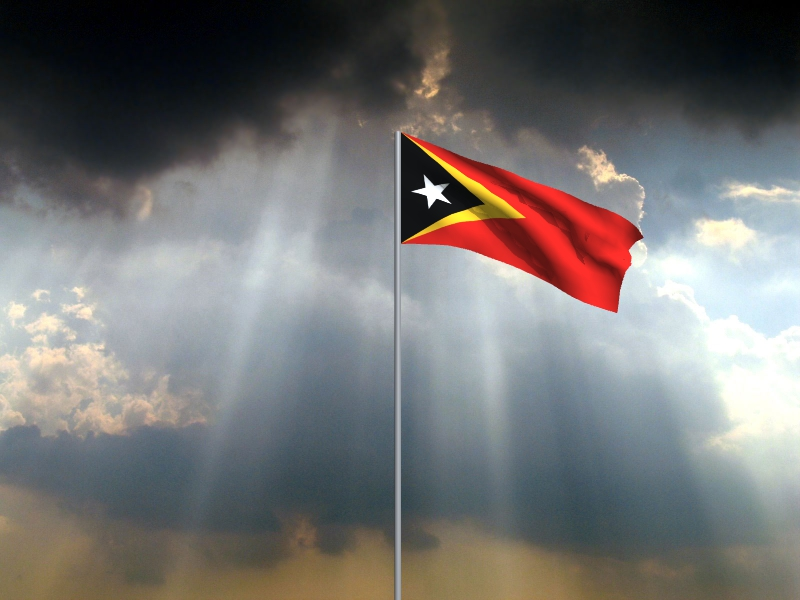tl: (402, 134, 645, 315)
